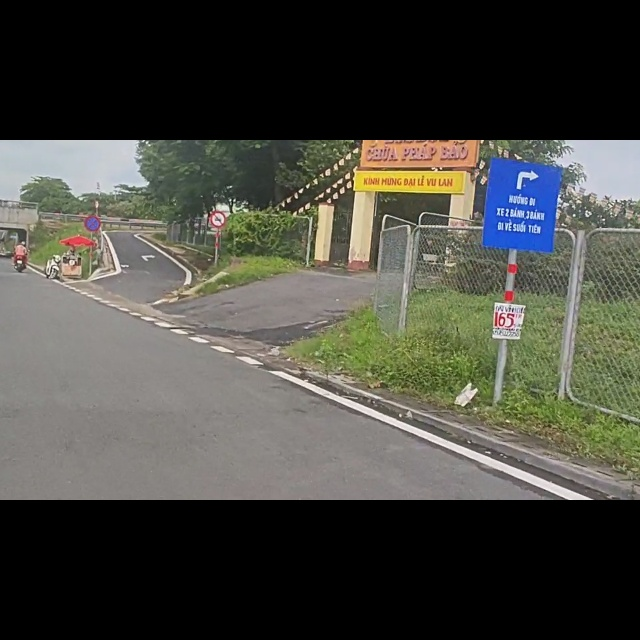bien_chi_dan: (209, 124, 226, 158), (85, 134, 101, 164)
